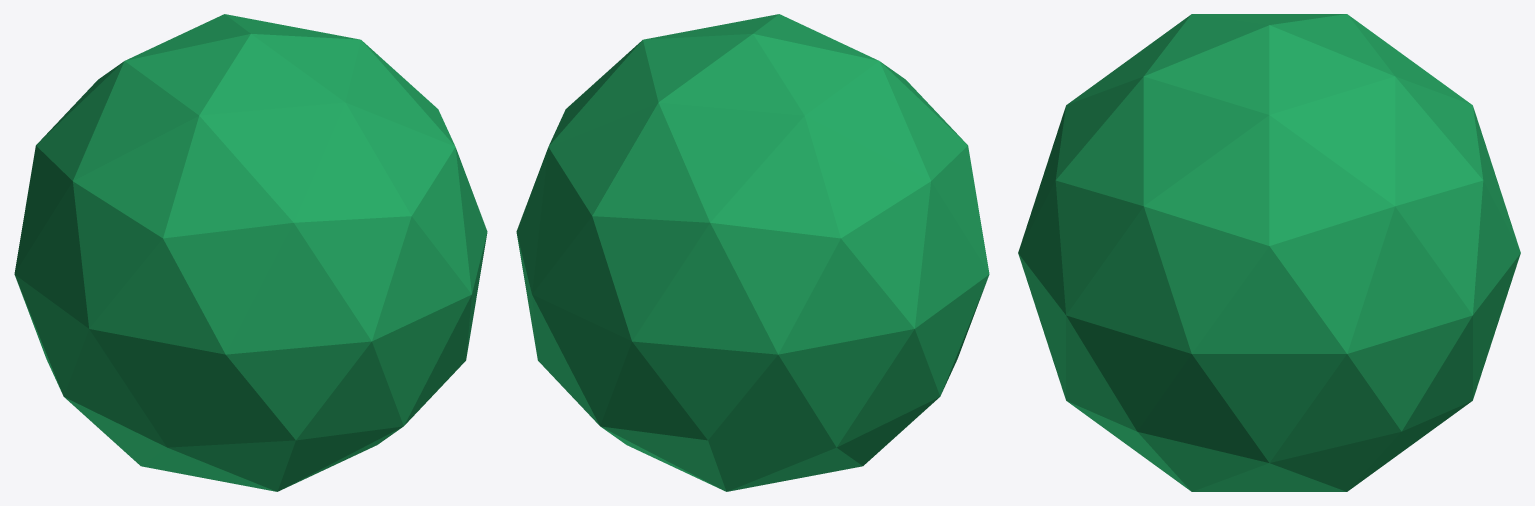
File: layered_fruit_planet.glb
3 renders of one model, left to right at view 1: azimuth 30°, elevation 25°; view 2: azimuth 150°, elevation 25°; view 3: azimuth 270°, elevation 25°, orthographic. The views are drawn at different scales.
Parts seen in each view (by area): view 1: layered_fruit_planet; view 2: layered_fruit_planet; view 3: layered_fruit_planet.
Boxes of the visible parts, <box> form: layered_fruit_planet: <box>14,14,487,491</box>; layered_fruit_planet: <box>516,14,989,491</box>; layered_fruit_planet: <box>1018,14,1520,491</box>.
Bounding box in the file's own units: 1.9 × 2 × 2.
